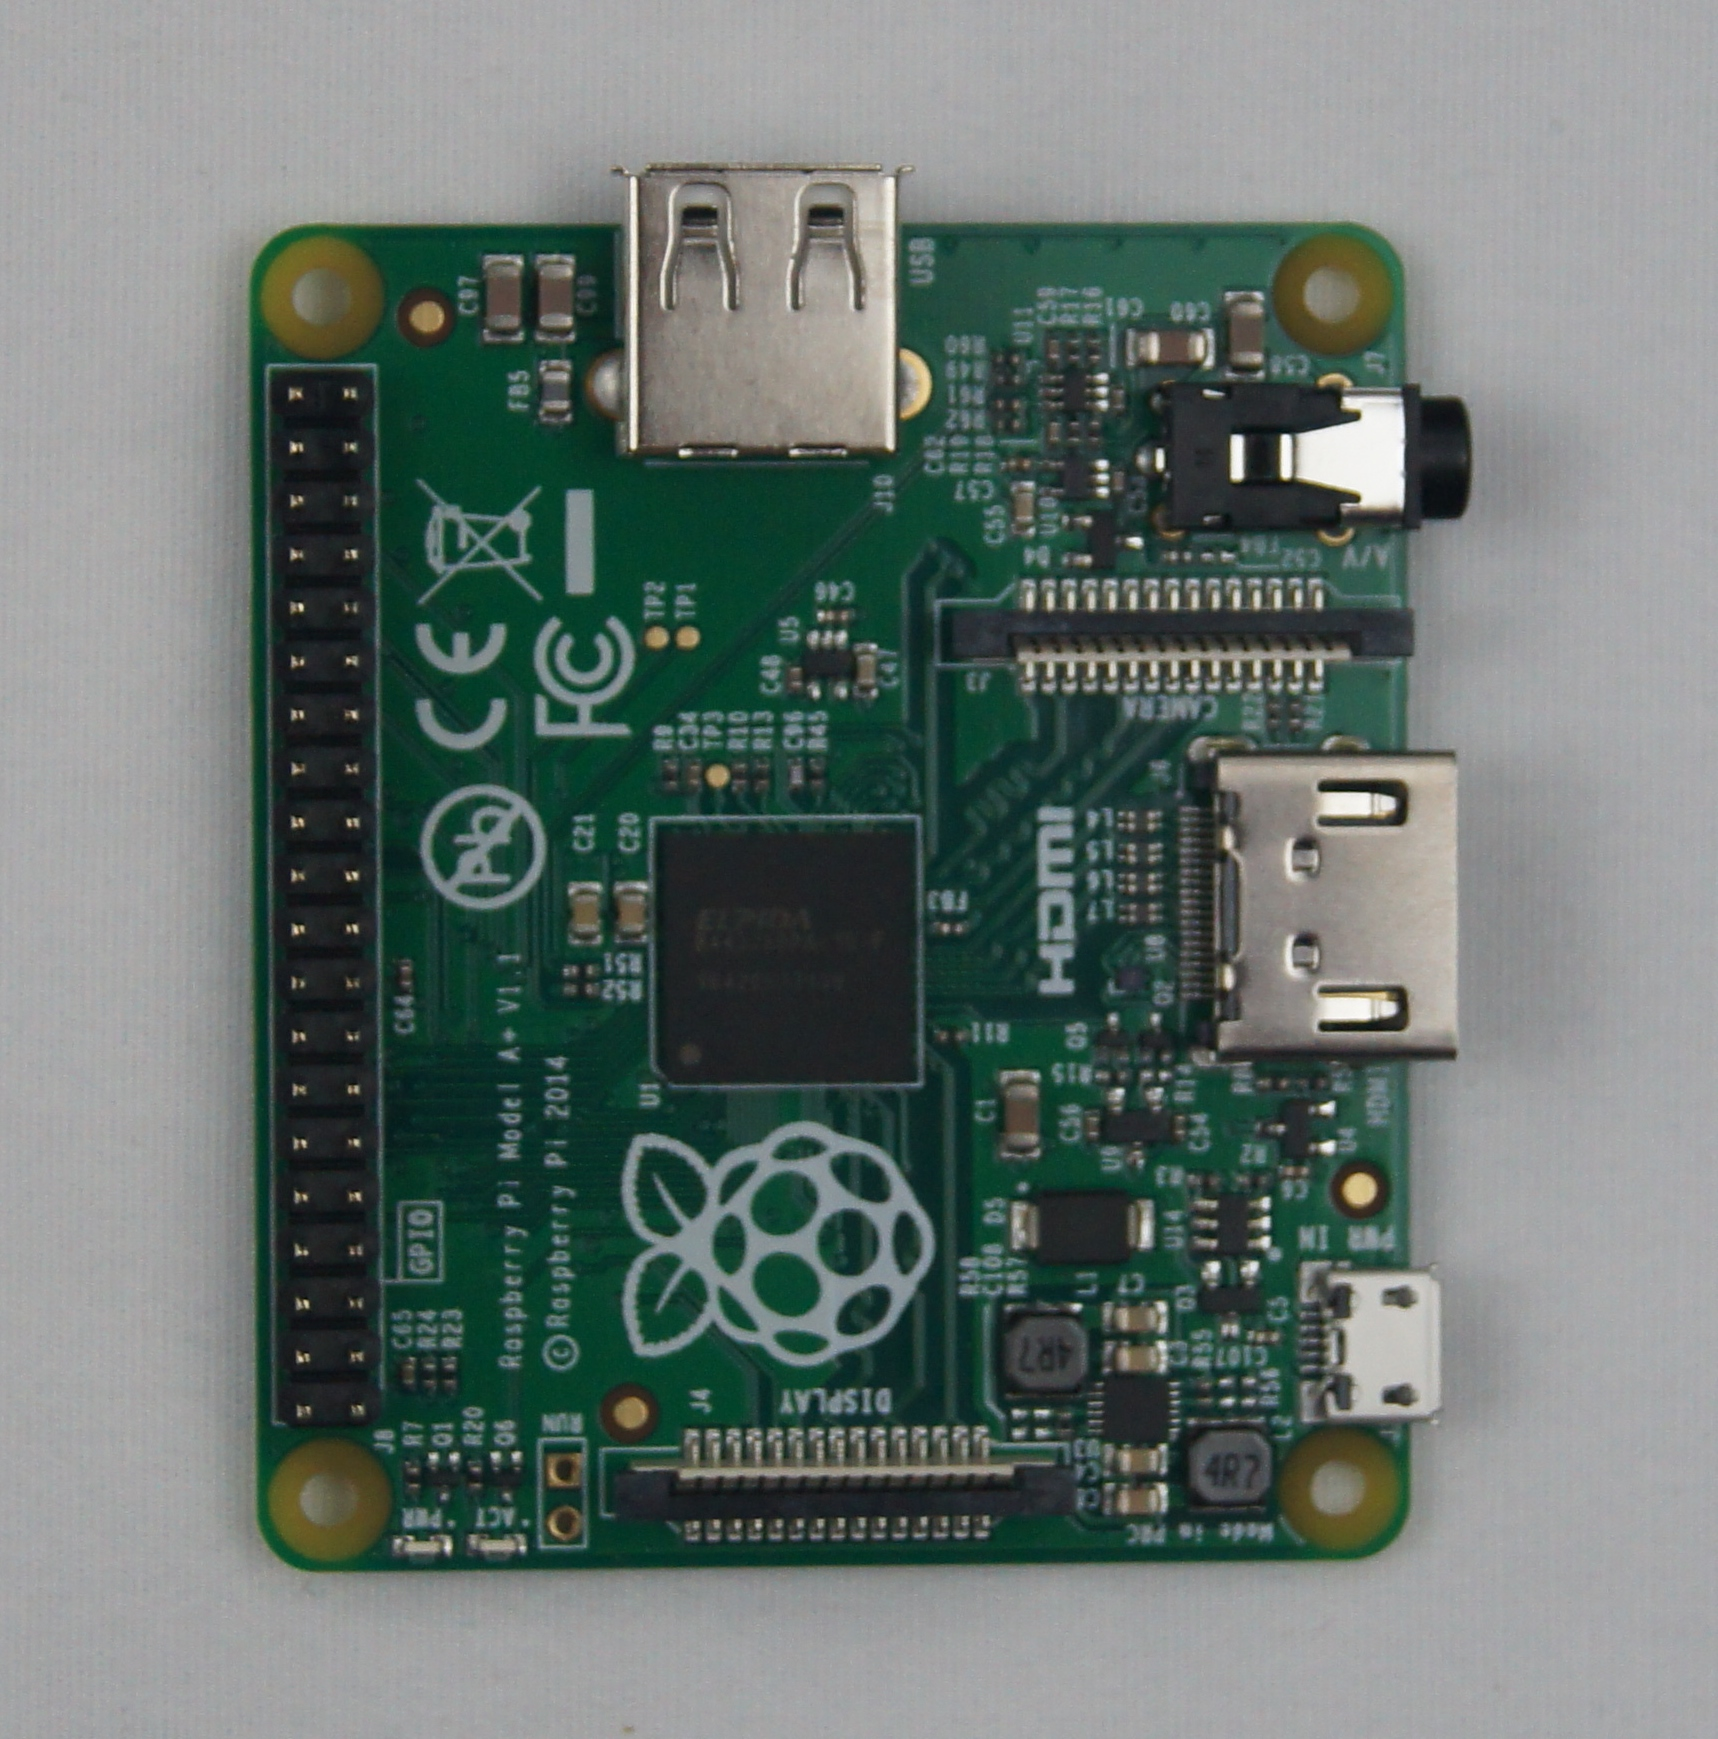kondensator: (1001, 1072, 1045, 1150), (481, 257, 521, 335), (536, 260, 574, 332), (1229, 297, 1266, 367), (1141, 329, 1207, 364), (614, 883, 650, 940), (1106, 1482, 1167, 1516), (1101, 1301, 1164, 1331), (1106, 1339, 1167, 1369), (568, 884, 601, 938), (1112, 1446, 1167, 1475), (1015, 485, 1034, 530), (854, 650, 876, 688), (813, 607, 856, 622), (396, 962, 414, 988), (400, 1357, 417, 1383), (1279, 1165, 1309, 1179), (1249, 1330, 1281, 1342), (787, 666, 802, 689), (688, 762, 702, 785), (1082, 1113, 1097, 1136)
